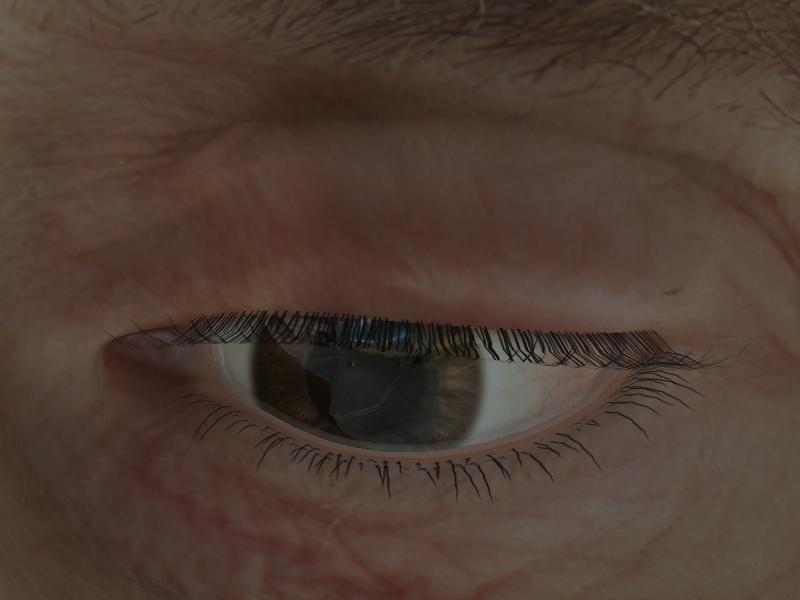eye: (253, 315, 484, 453)
